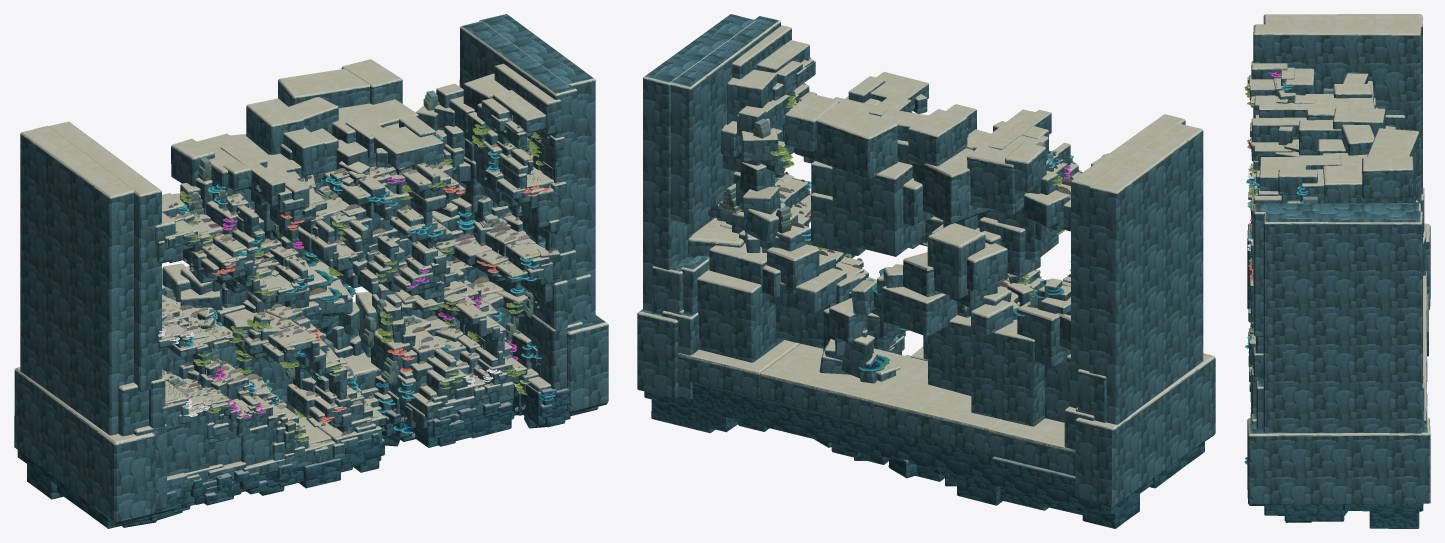
3 views of the same model, side by side, from view 1: azimuth 30°, elevation 25°; view 2: azimuth 150°, elevation 25°; view 3: azimuth 270°, elevation 25° (orthographic). The views are drawn at different scales.
Bounding box in the file's own units: 150 × 103 × 55.5.
18 materials, 18 textured.
